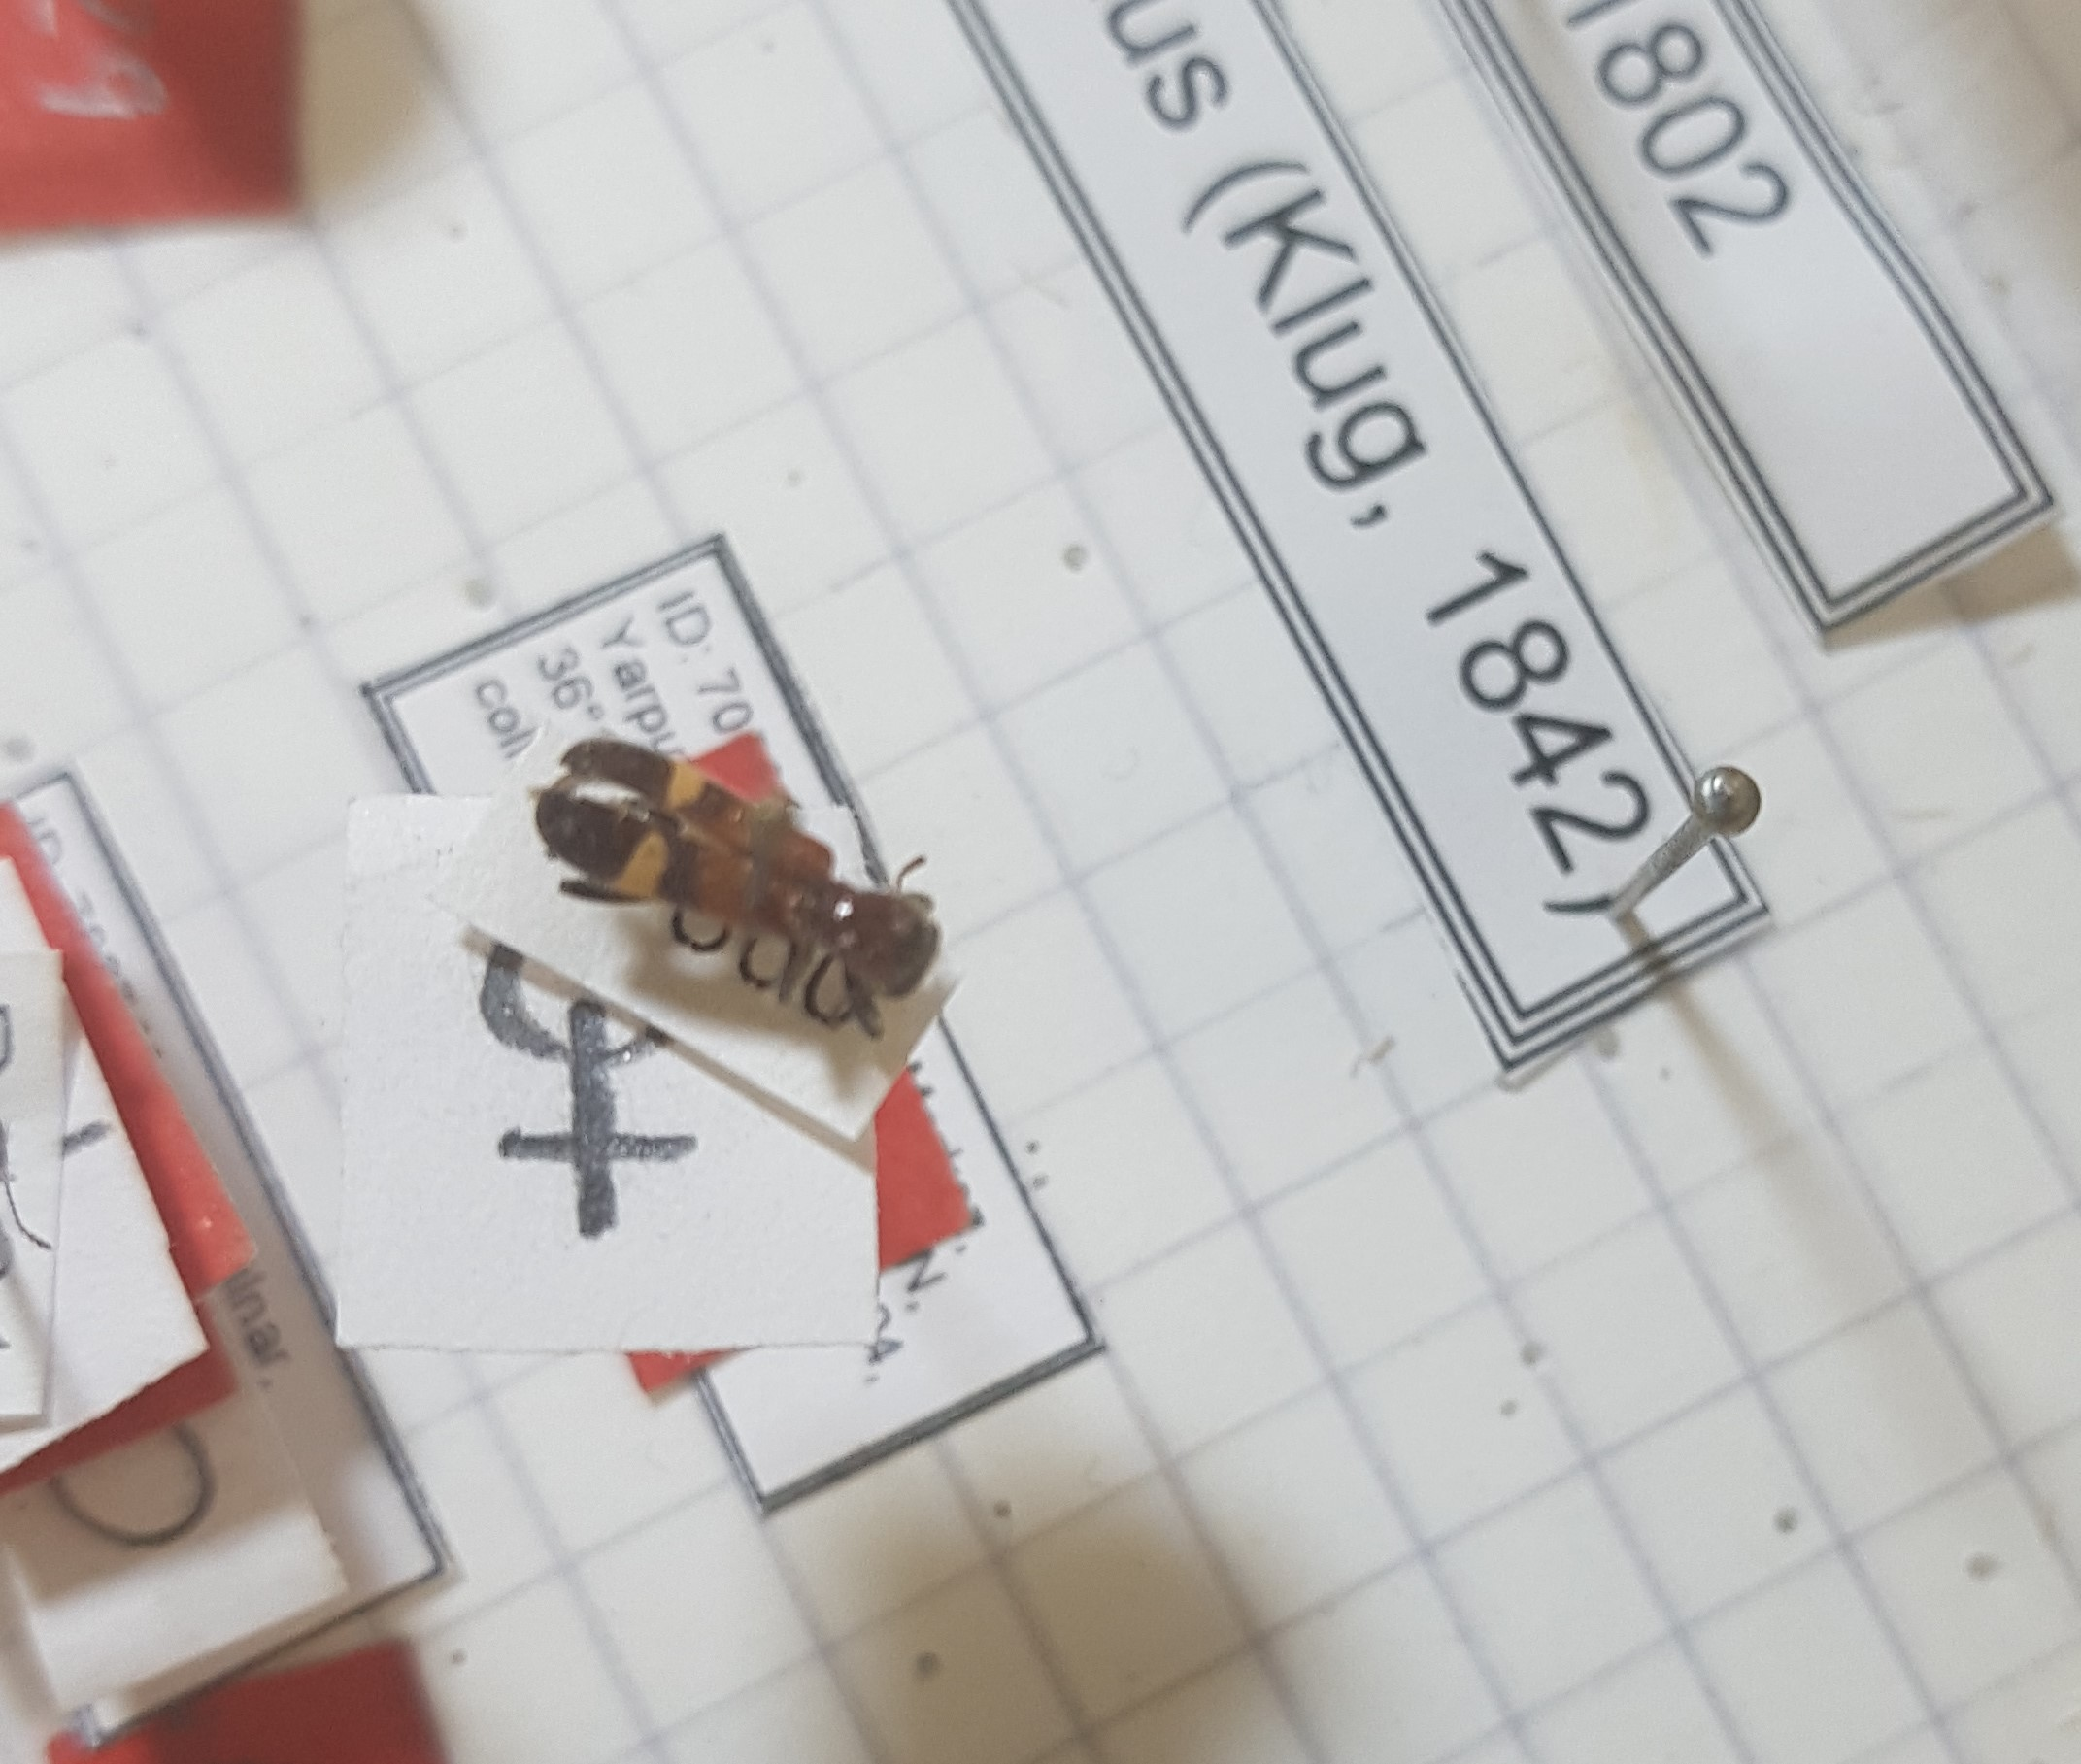opilo_taeniatus: (530, 721, 959, 1052)
